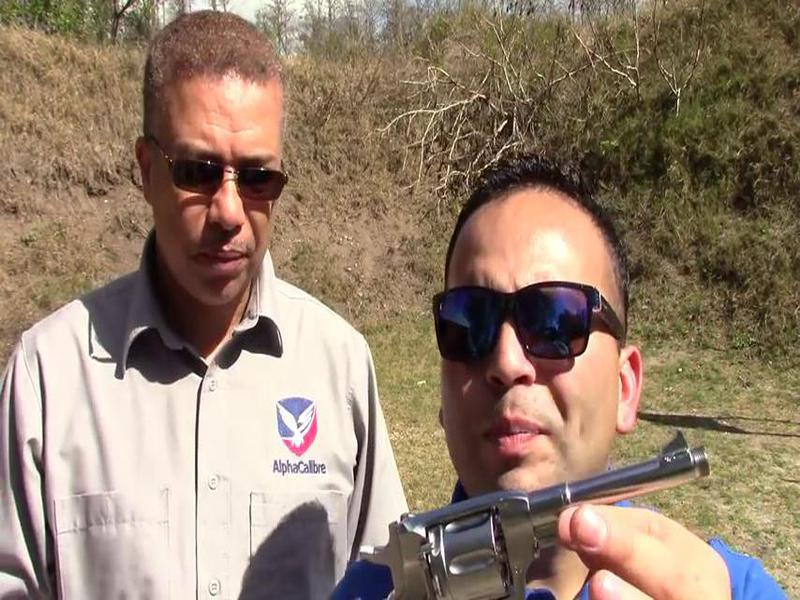Revolver: (337, 414, 711, 600)
